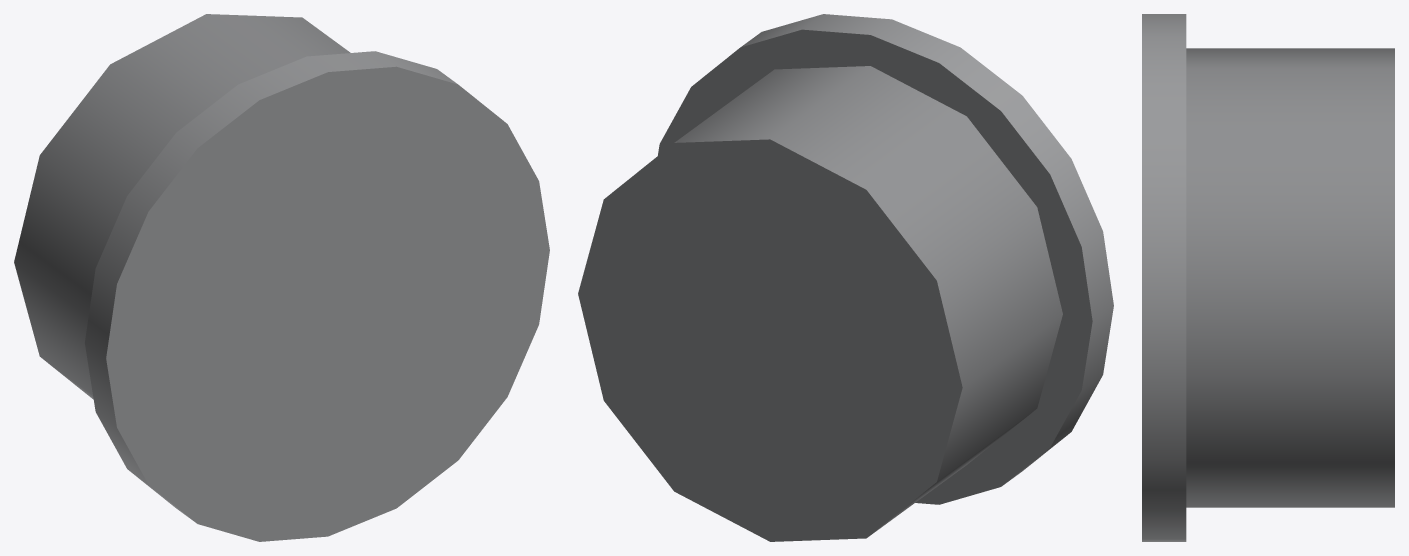
The picture shows the model from 3 angles, left to right: view 1: azimuth 30°, elevation 25°; view 2: azimuth 150°, elevation 25°; view 3: azimuth 270°, elevation 25°; orthographic projection. The views are drawn at different scales.
Size of the model in its own units: 0.3 by 0.3 by 0.1425.
